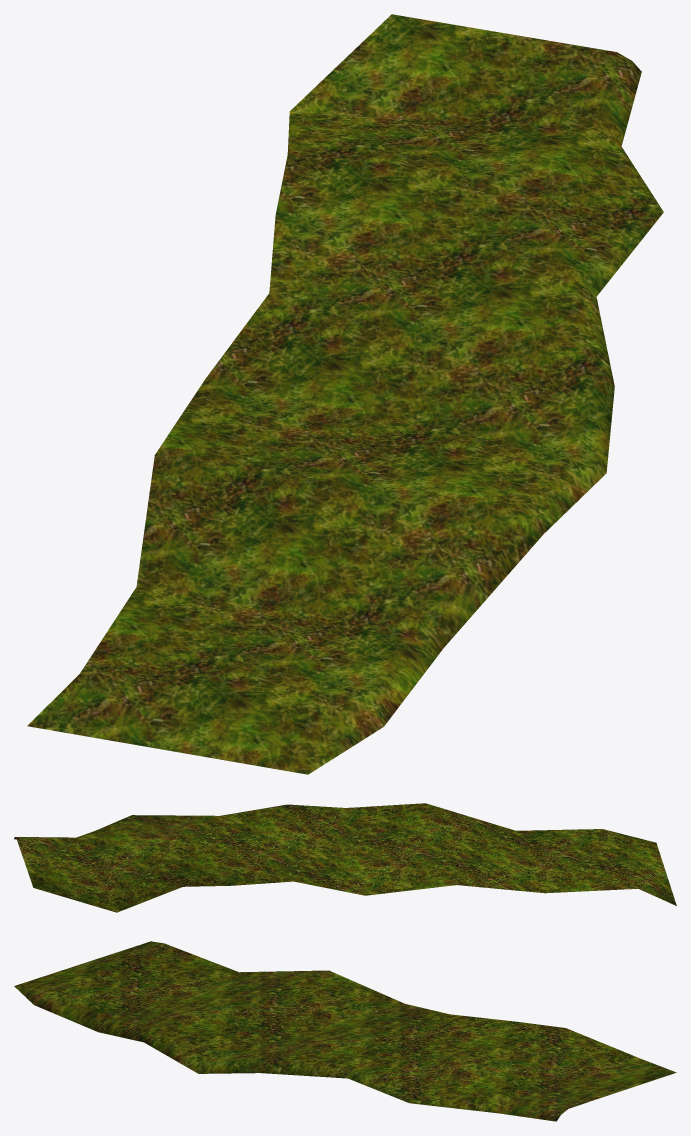
The model's file is TROLLHOLE02_RM_PSURF249.fbx.
3 renders of one model, top to bottom at view 1: azimuth 30°, elevation 25°; view 2: azimuth 150°, elevation 25°; view 3: azimuth 270°, elevation 25°, orthographic. The views are drawn at different scales.
Parts seen in each view (by area): view 1: TROLLHOLE02_RM_PSURF249; view 2: TROLLHOLE02_RM_PSURF249; view 3: TROLLHOLE02_RM_PSURF249.
Part boxes in pixels (x1,y1,x2,y2): TROLLHOLE02_RM_PSURF249: [27, 14, 663, 774]; TROLLHOLE02_RM_PSURF249: [14, 803, 676, 912]; TROLLHOLE02_RM_PSURF249: [14, 941, 676, 1121].
Size of the model in its own units: 271807 by 46252 by 281988.
2 materials, 2 textured.
